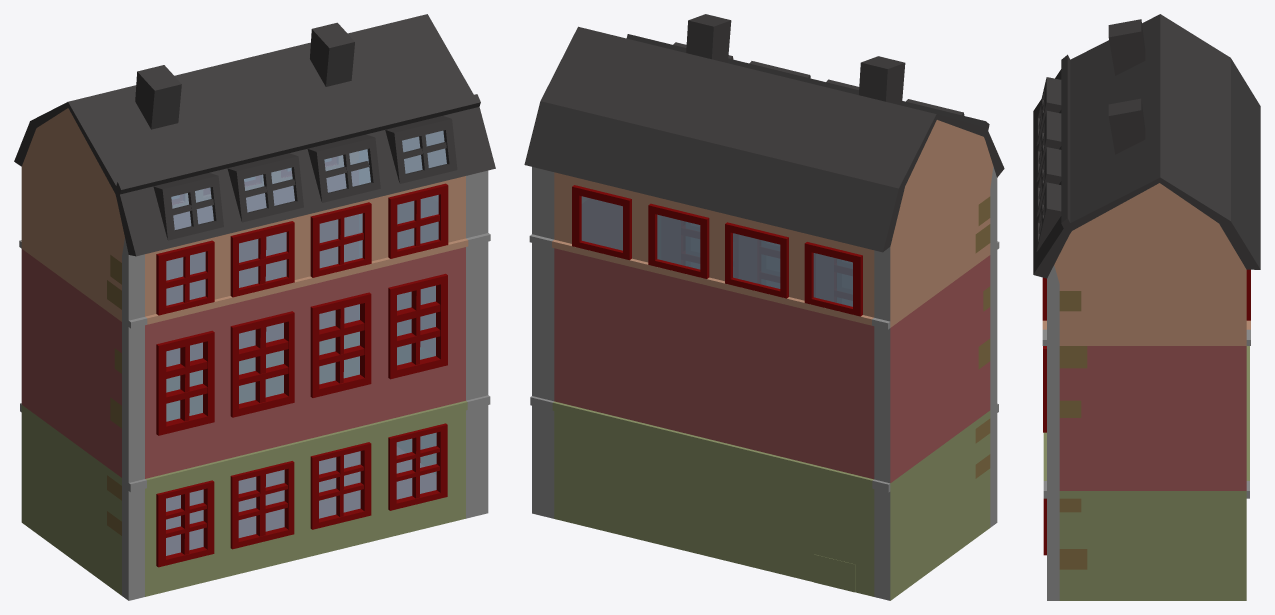
The model's file is Hus_2.fbx.
3 views of the same model, side by side, from view 1: azimuth 30°, elevation 25°; view 2: azimuth 150°, elevation 25°; view 3: azimuth 270°, elevation 25° (orthographic). The views are drawn at different scales.
Visible parts, largest first — view 1: pCube2; view 2: pCube2; view 3: pCube2.
Part boxes in pixels (x1,y1,x2,y2): pCube2: [14, 14, 495, 600]; pCube2: [524, 14, 1004, 600]; pCube2: [1033, 14, 1260, 600].
Bounding box in the file's own units: 226 × 287 × 133.
